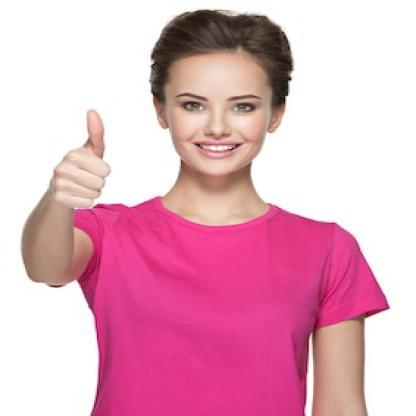thumb_up: (43, 106, 113, 212)
